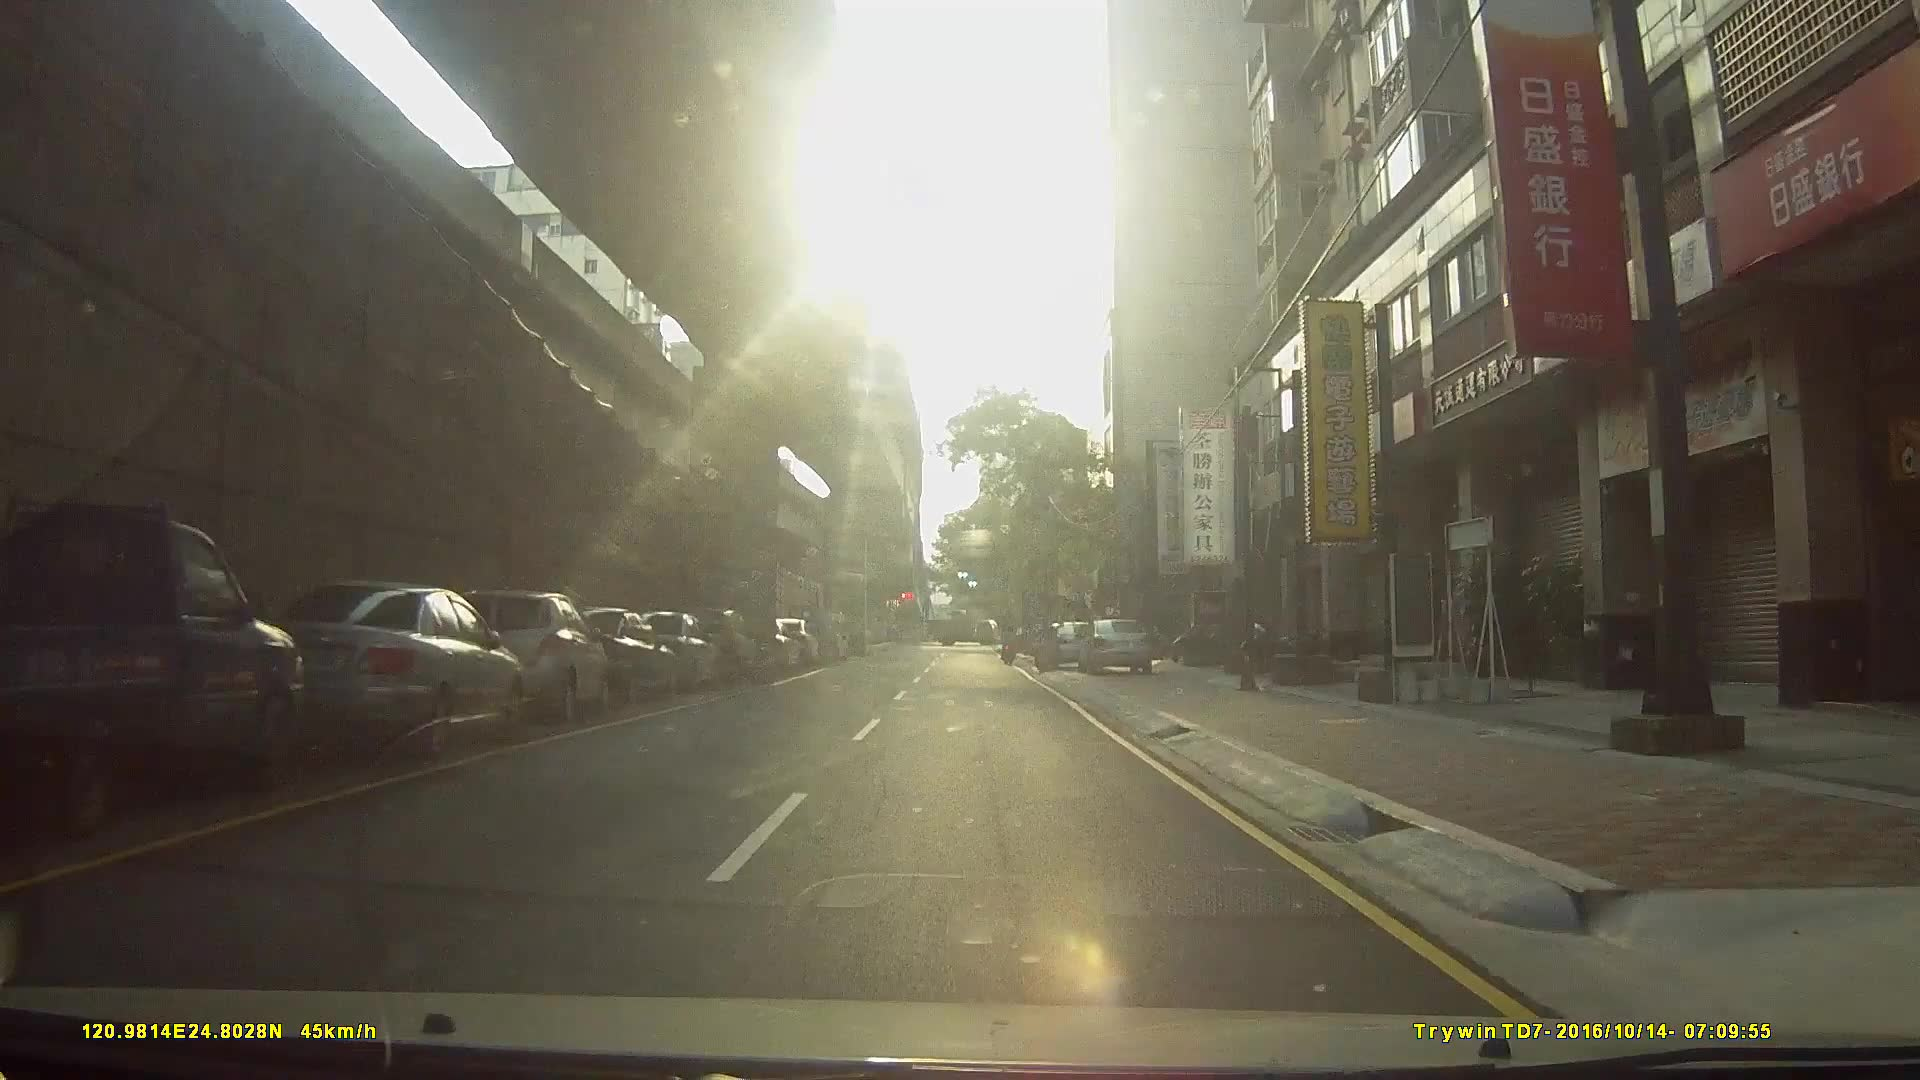vehicle: (3, 508, 305, 847), (214, 574, 517, 767), (431, 584, 604, 729), (546, 607, 674, 705), (629, 611, 713, 690), (680, 605, 761, 684), (1073, 616, 1156, 673), (1033, 618, 1093, 671), (924, 609, 1004, 646)
